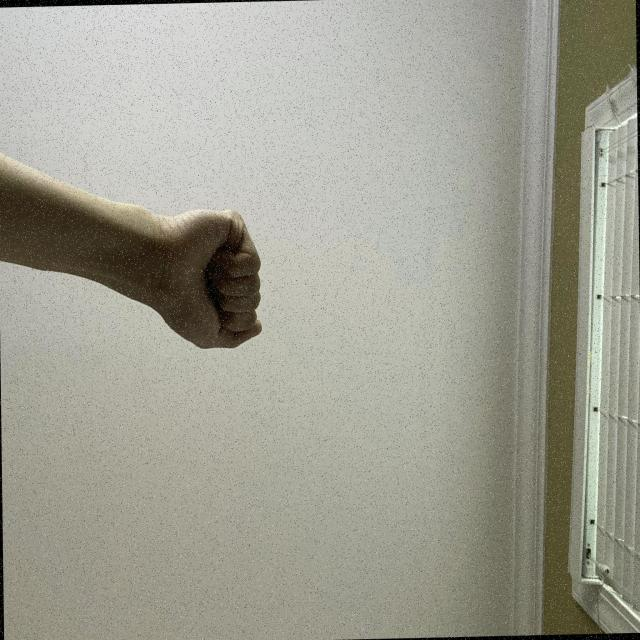A: (313, 493, 428, 640)
